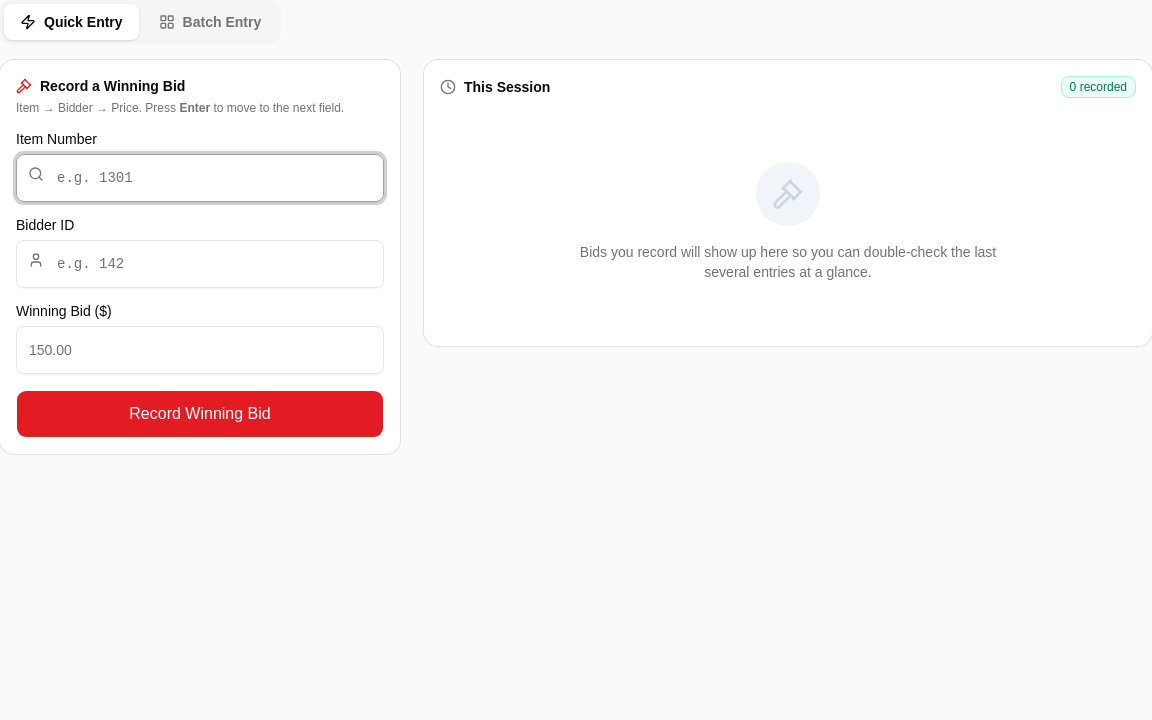
Test: BidEntry › form clears after successful submission
In the field with placeholder "e.g. 1301": point(200, 178) [16,154,384,202], type "1301"
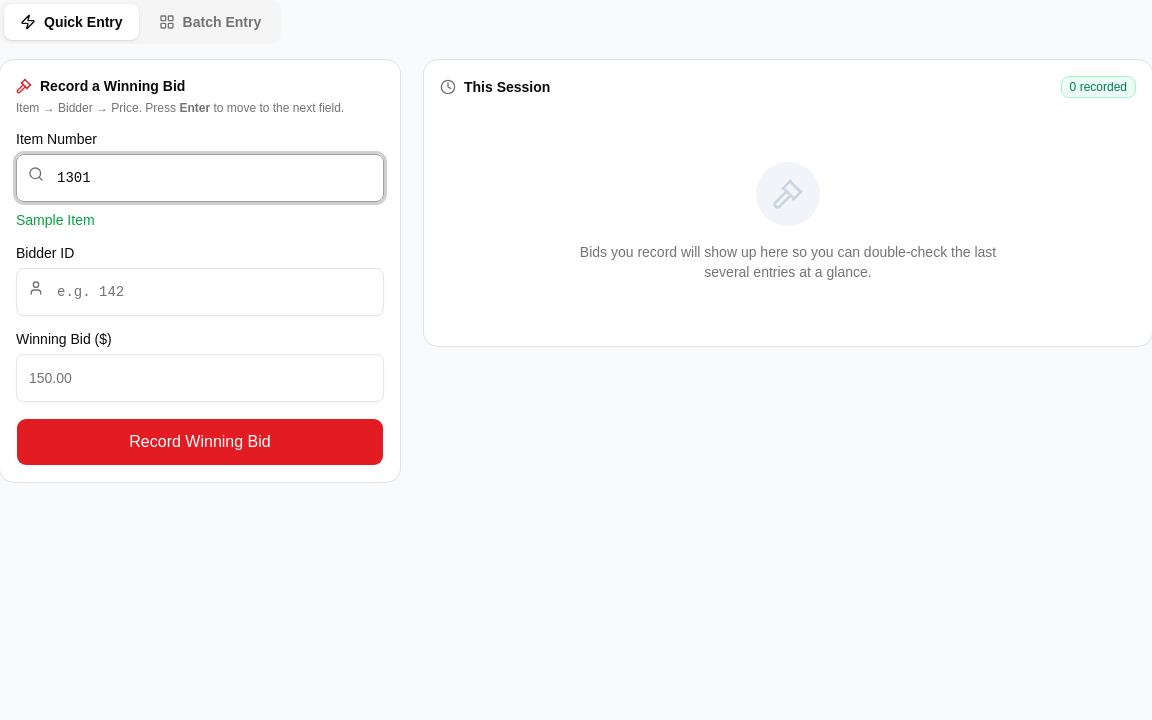
In the field with placeholder "e.g. 142": point(200, 292) [16,268,384,316], type "142"
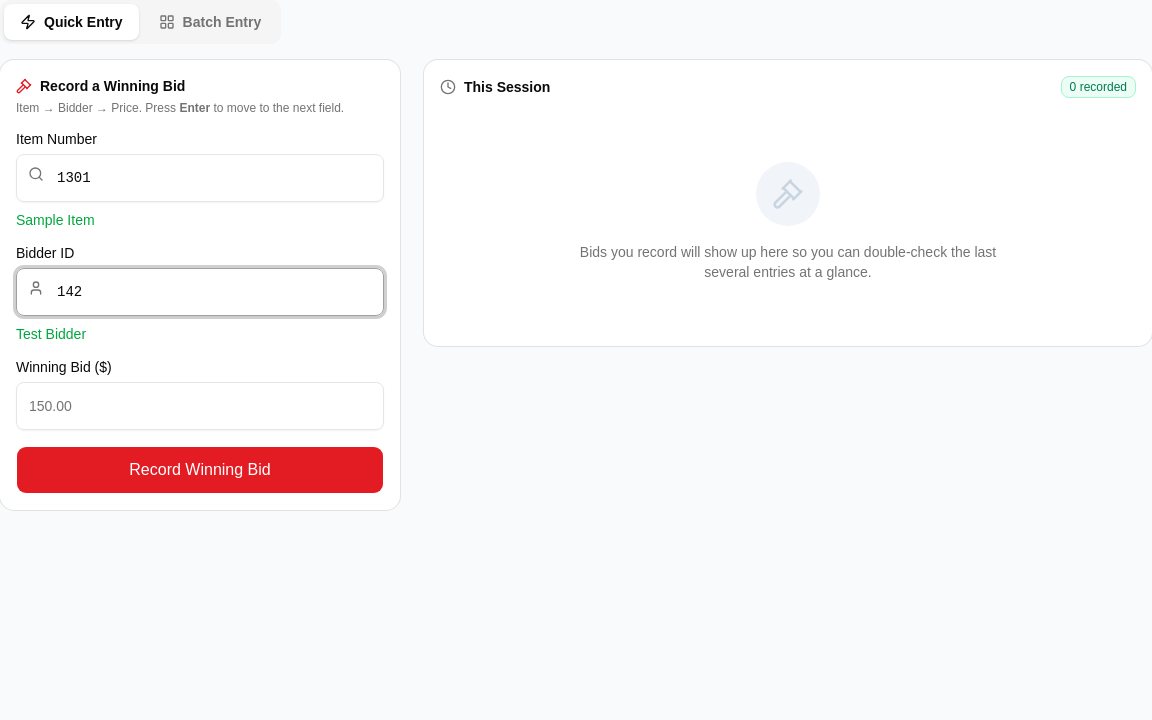
In the number field with placeholder "150.00": point(200, 406) [16,382,384,430], type "150"
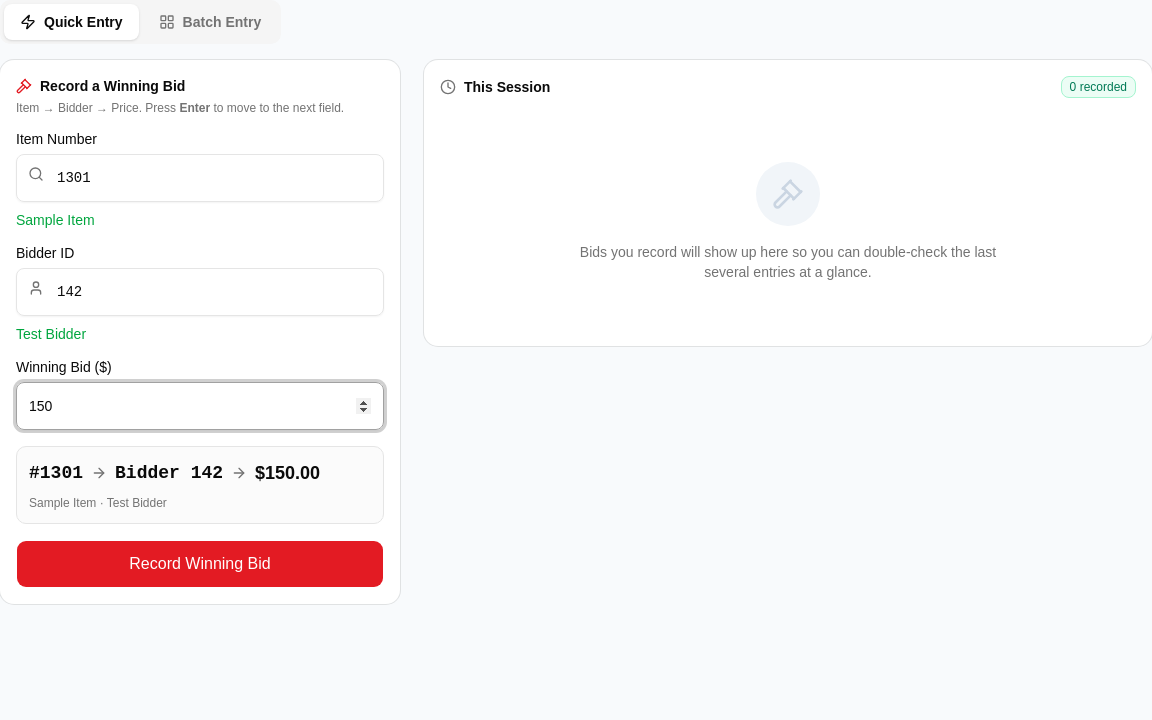
Click the button "Record Winning Bid": point(200, 564) [16,540,384,588]
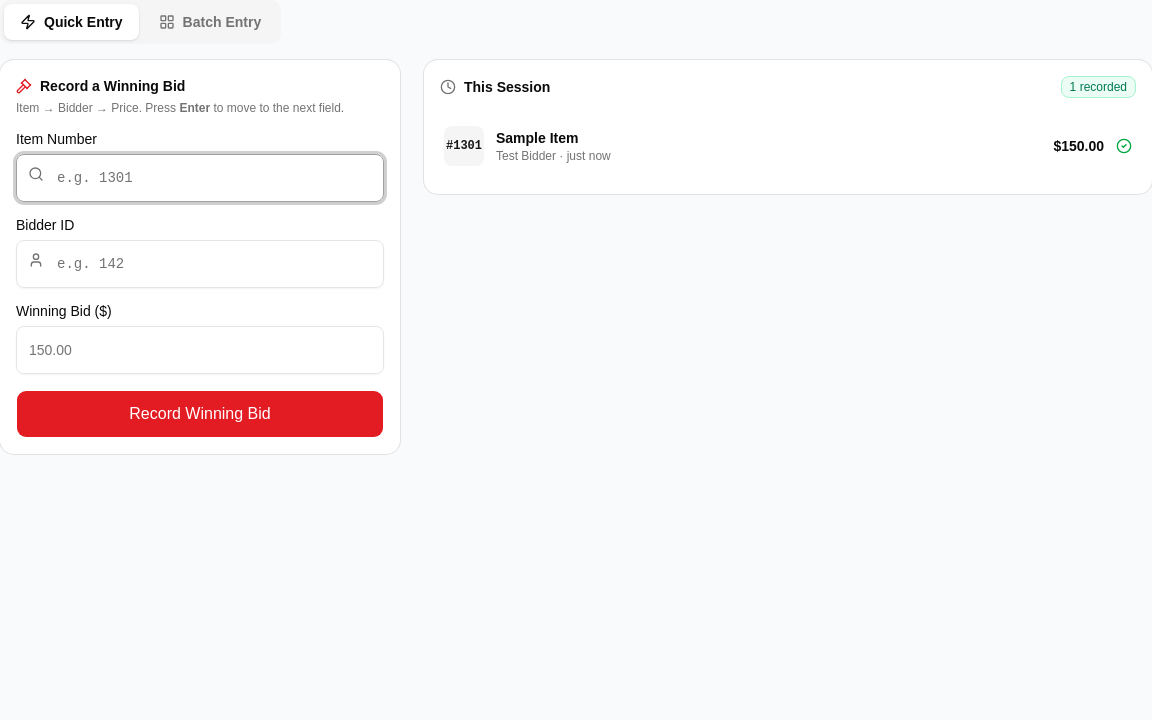
Check: the field with placeholder "e.g. 1301" is empty, box [16,154,384,202]
Check: the field with placeholder "e.g. 142" is empty, box [16,240,384,288]
Check: the number field with placeholder "150.00" is not empty, box [16,326,384,374]
